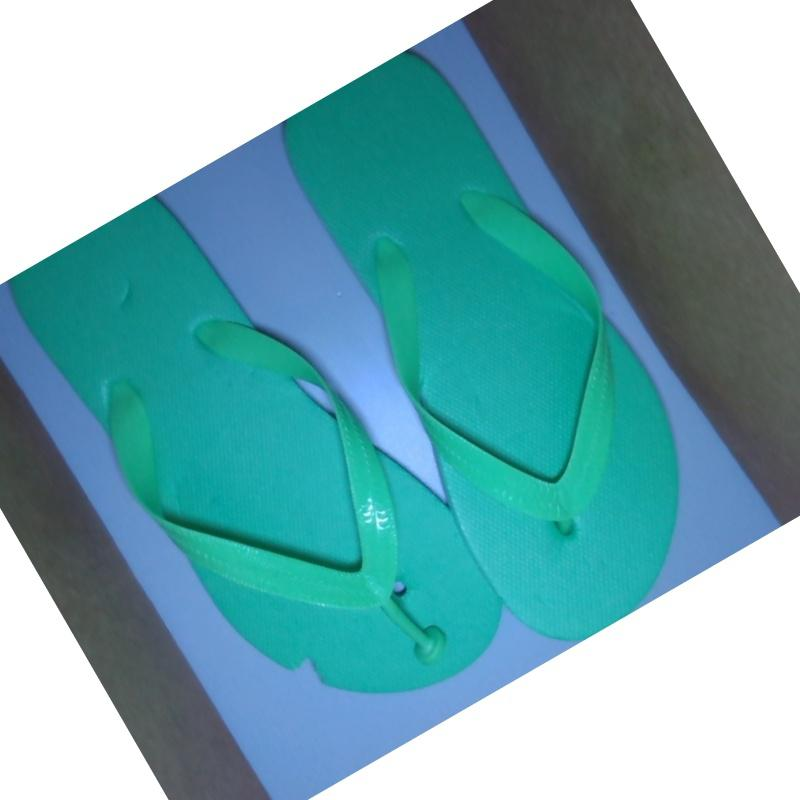chipped: (277, 639, 337, 695)
detached: (399, 615, 460, 678)
